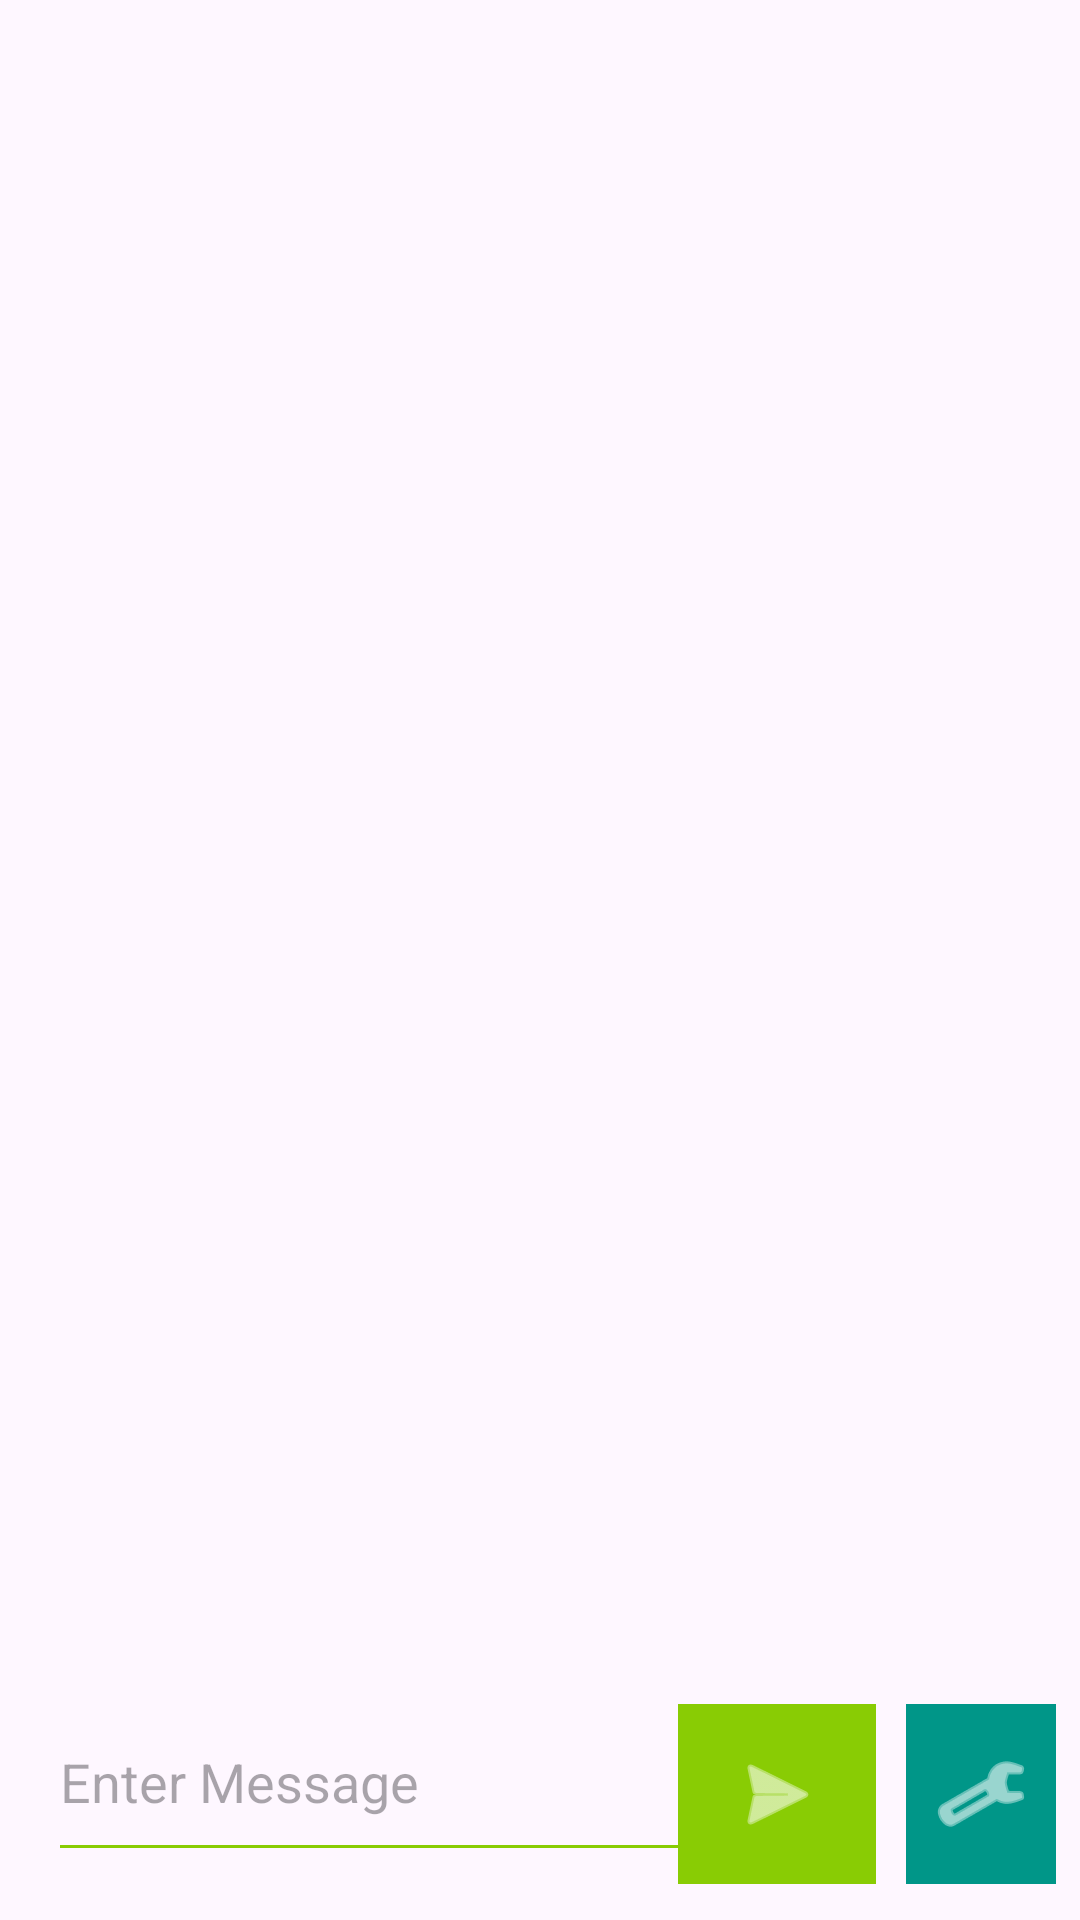

Locate icon controls on the screen. Image size 1080x1920, boxes as [x1,y1,x2,y2].
preferences: [906,1704,1056,1884]
send: [678,1704,876,1884]
